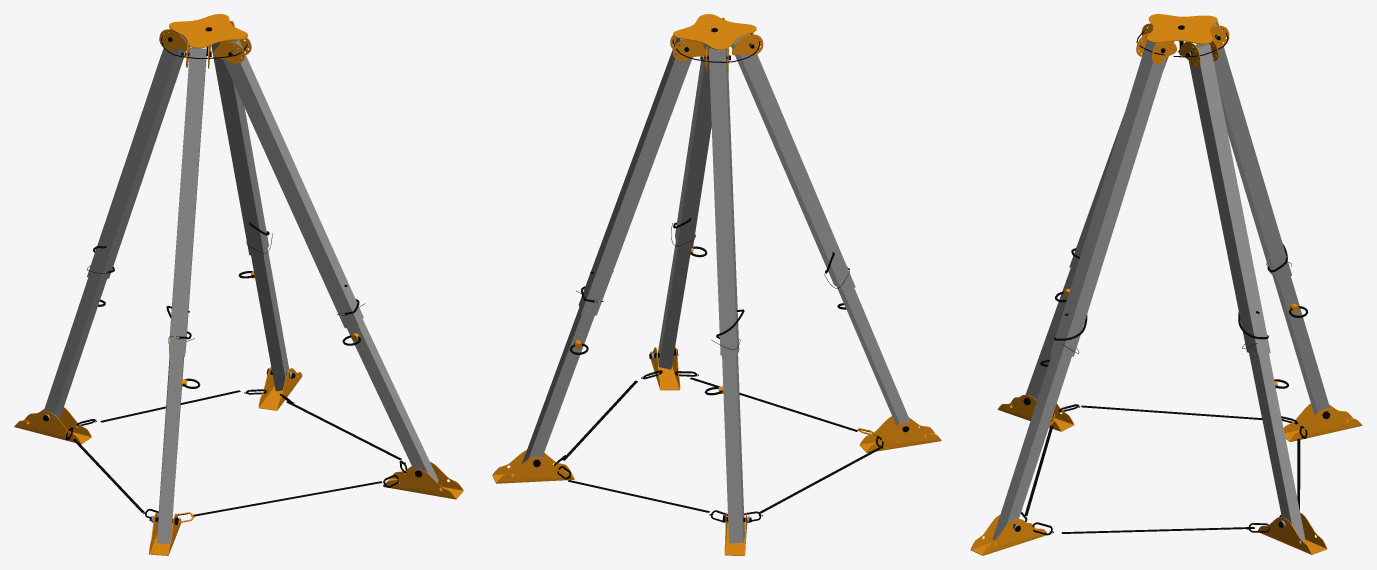
Rendered from SM_Quad_pod.FBX.
The picture shows the model from 3 angles, left to right: view 1: azimuth 30°, elevation 25°; view 2: azimuth 150°, elevation 25°; view 3: azimuth 270°, elevation 25°; orthographic projection. The views are drawn at different scales.
Parts seen in each view (by area): view 1: SM_Quad_pod; view 2: SM_Quad_pod; view 3: SM_Quad_pod.
Part boxes in pixels (x1=…): SM_Quad_pod: x1=14, y1=14, x2=463, y2=555; SM_Quad_pod: x1=492, y1=14, x2=941, y2=555; SM_Quad_pod: x1=970, y1=14, x2=1362, y2=555.
Size of the model in its own units: 979 by 1350 by 1061.
